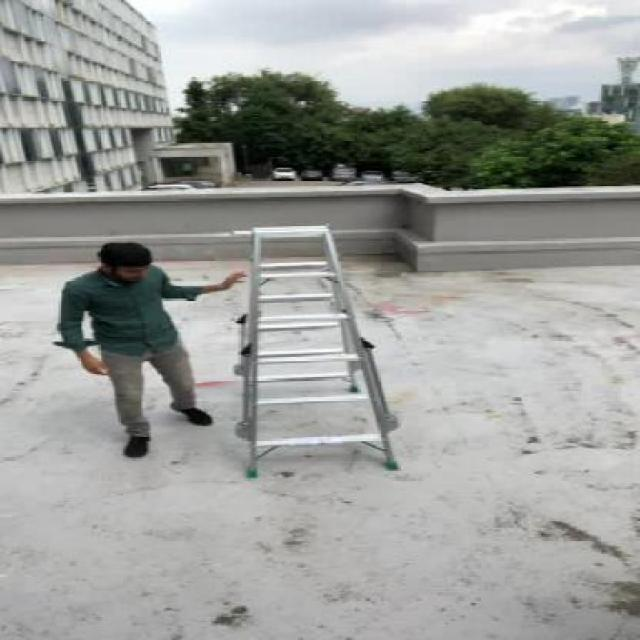hard hat: (238, 220, 416, 482)
vest: (50, 233, 238, 462)
